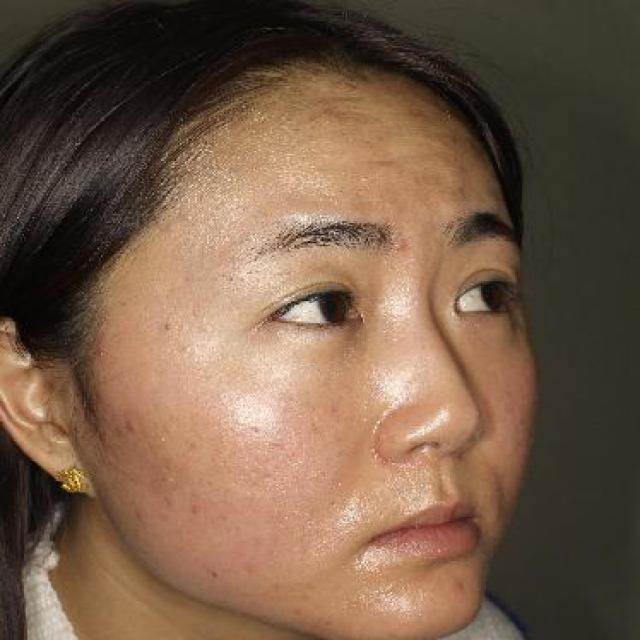dark spot: (125, 505, 152, 526), (185, 497, 207, 518)
papules: (116, 409, 144, 440), (394, 237, 409, 257)
